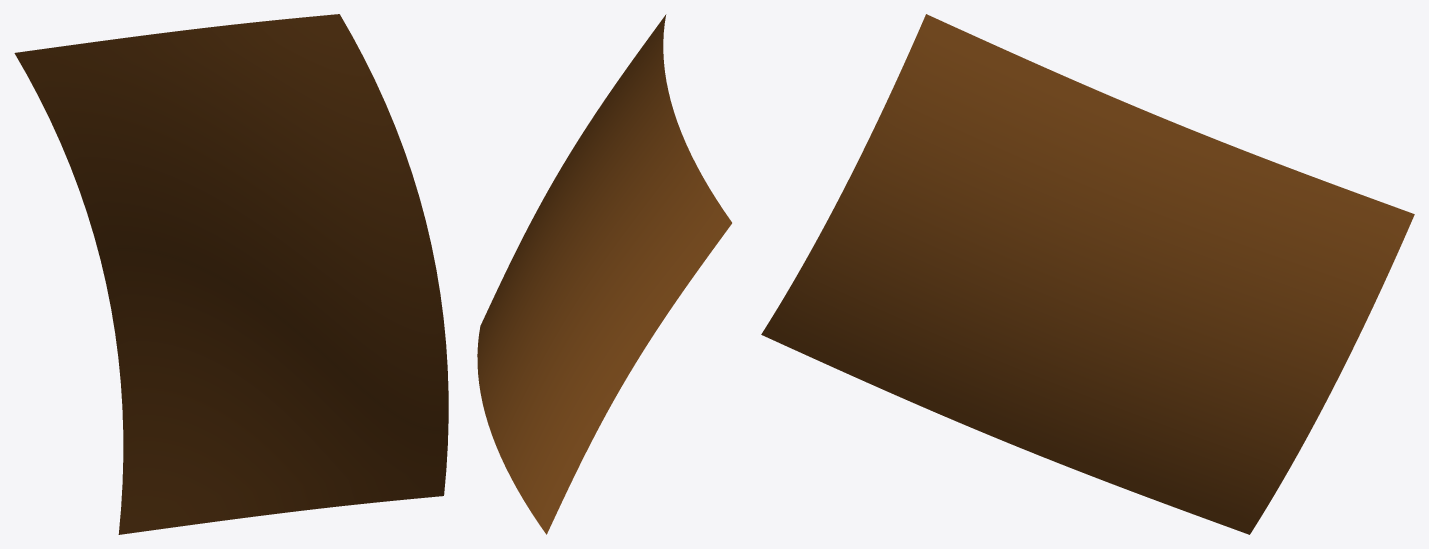
The model's file is SM_AmberHero_Leaf.obj.
The picture shows the model from 3 angles, left to right: view 1: azimuth 30°, elevation 25°; view 2: azimuth 150°, elevation 25°; view 3: azimuth 270°, elevation 25°; orthographic projection. The views are drawn at different scales.
Parts seen in each view (by area): view 1: Leaf; view 2: Leaf; view 3: Leaf.
Part boxes in pixels (bbox=[...]): Leaf: bbox=[14, 14, 448, 534]; Leaf: bbox=[477, 14, 731, 534]; Leaf: bbox=[761, 14, 1414, 534].
Bounding box in the file's own units: 0.657 × 6.26 × 7.03.
